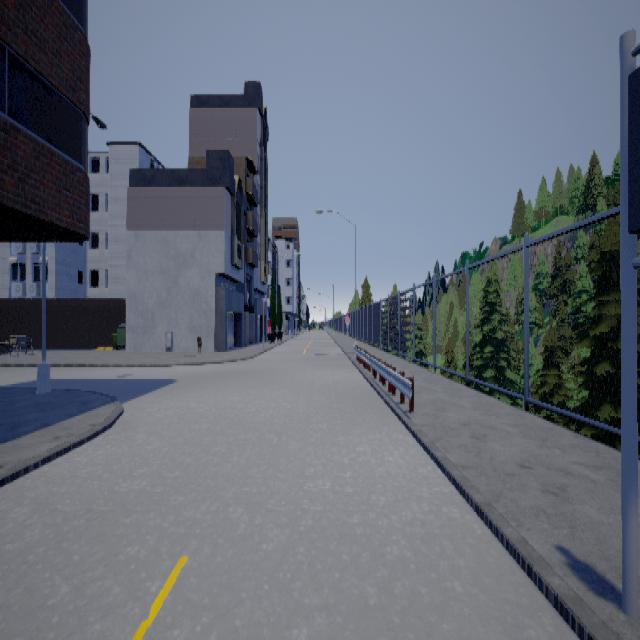traffic_light: (627, 64, 639, 232)
